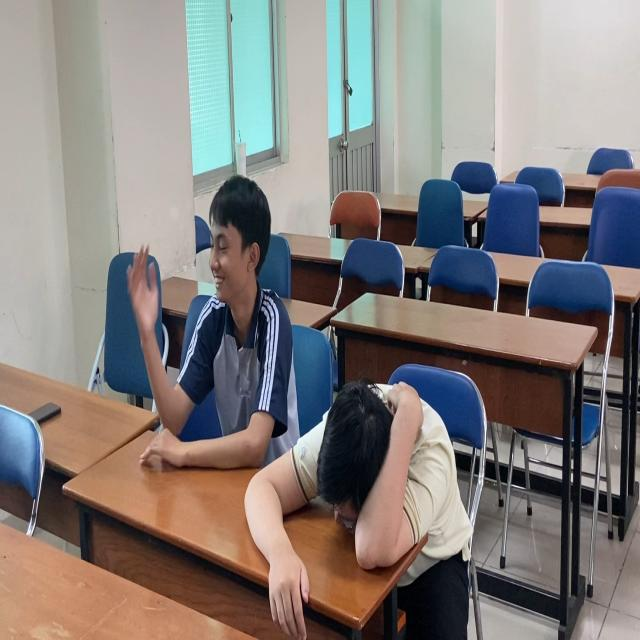raise_hand: (124, 166, 308, 489)
sleep: (233, 375, 478, 632)
